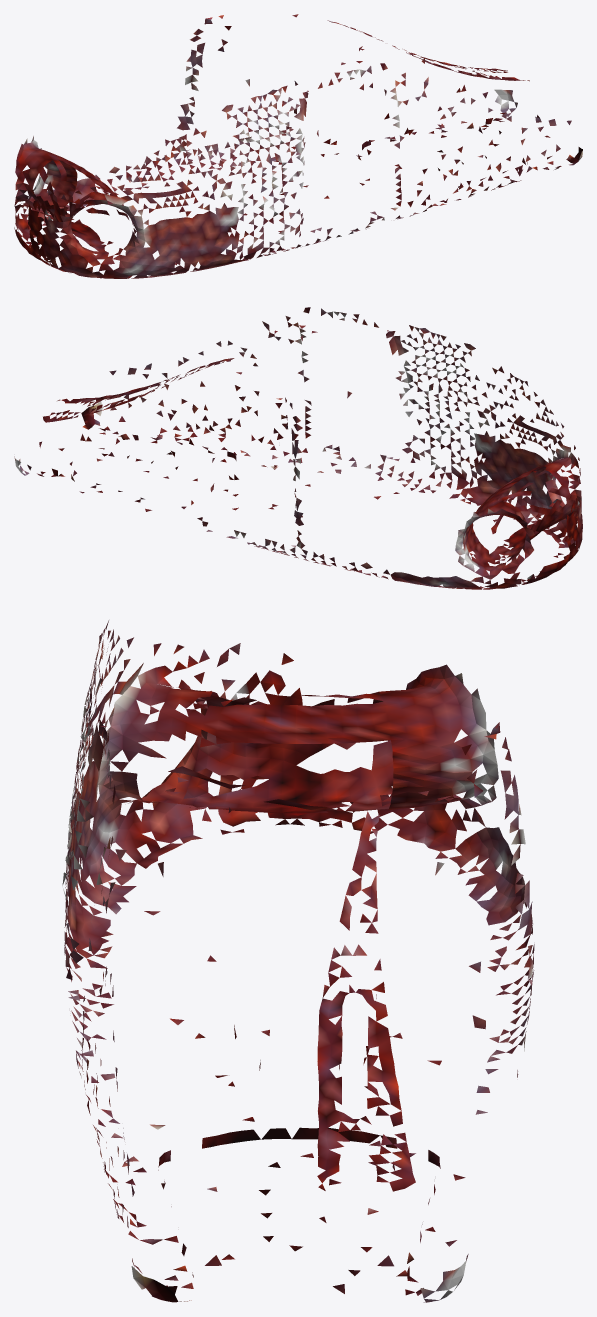
The model's file is whistle_final400.obj.
The picture shows the model from 3 angles, top to bottom: view 1: azimuth 30°, elevation 25°; view 2: azimuth 150°, elevation 25°; view 3: azimuth 270°, elevation 25°; orthographic projection. The views are drawn at different scales.
Bounding box in the file's own units: 1.92 × 0.5803 × 0.7593.
